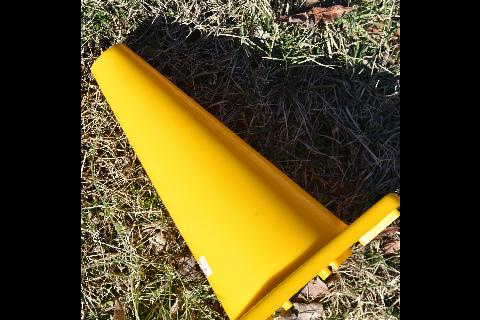cone: (88, 42, 399, 320)
